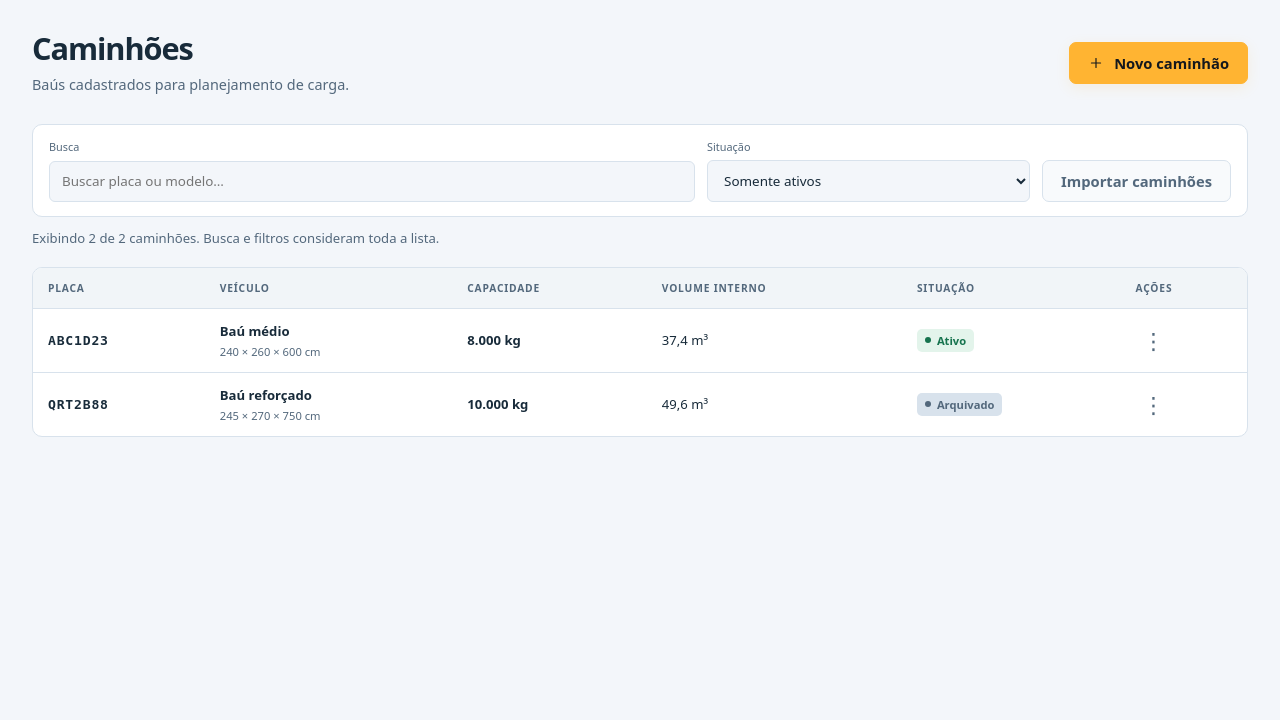
Scenario: TruckListPage › organiza as ações em grupo separado do peso máximo de cada caminhão
Click the heading named "Ações do caminhão ABC1D23" at (1154, 340), box [1136,322,1172,358]
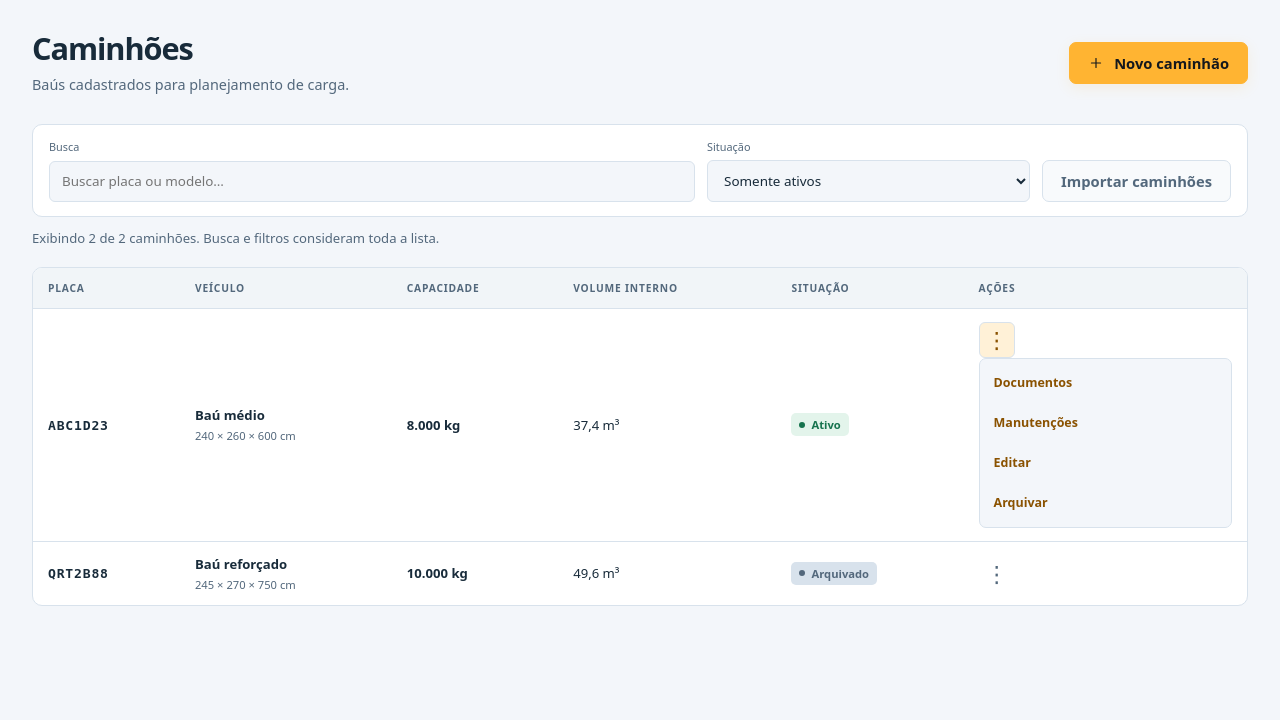
Expected: the button "Documentos" is shown, [986,365,1225,401]
Expected: the button "Manutenções" is shown, [986,405,1225,441]
Expected: the button "Arquivar" is shown, [986,485,1225,521]
